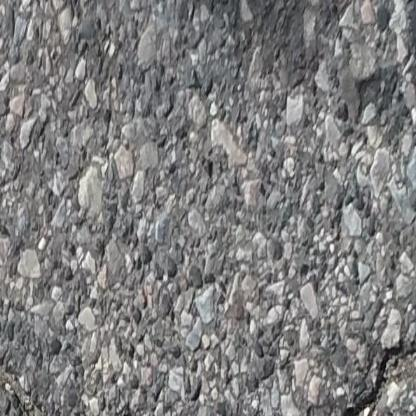Cracks: (0, 354, 195, 416), (332, 331, 416, 416)
